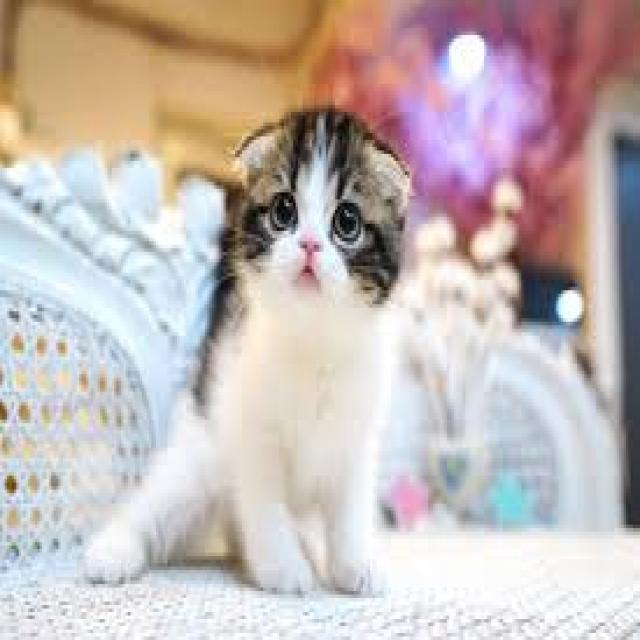cat-face: (190, 77, 446, 412)
